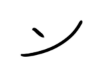n: (19, 17, 84, 59)
